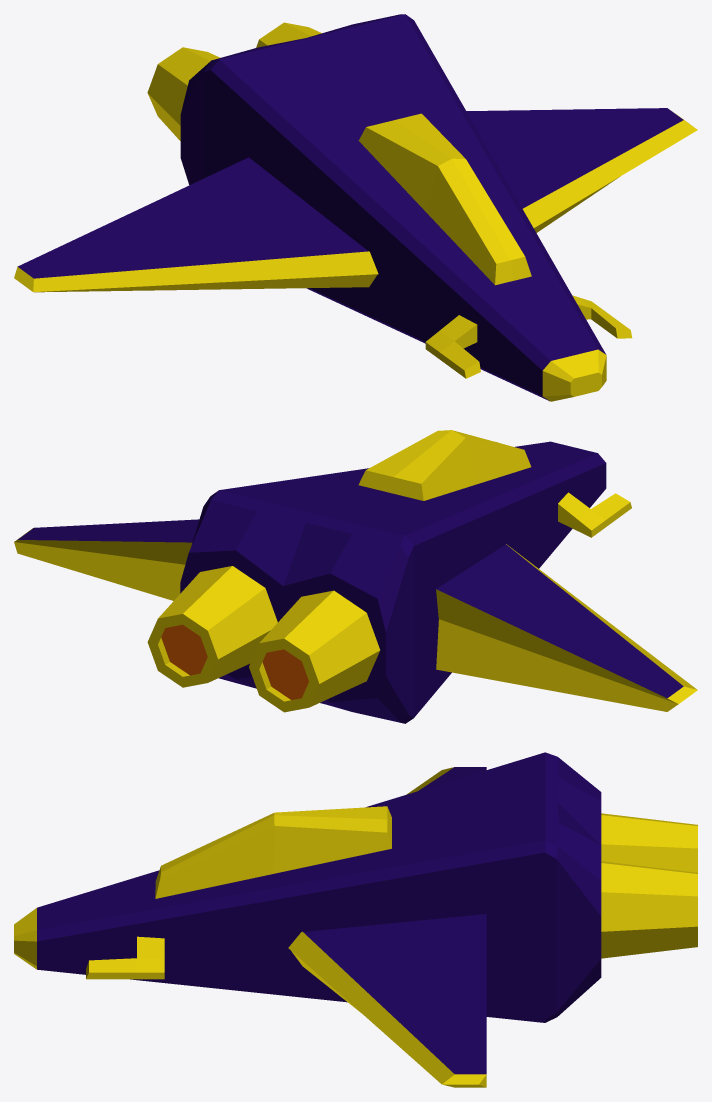
The model's file is nave.glb.
3 renders of one model, top to bottom at view 1: azimuth 30°, elevation 25°; view 2: azimuth 150°, elevation 25°; view 3: azimuth 270°, elevation 25°, orthographic. The views are drawn at different scales.
Visible parts, largest first — view 1: nave-inimiga-2; view 2: nave-inimiga-2; view 3: nave-inimiga-2.
Part boxes in pixels (<box>): nave-inimiga-2: <box>14,14,697,401</box>; nave-inimiga-2: <box>14,430,697,723</box>; nave-inimiga-2: <box>14,752,697,1087</box>.
Bounding box in the file's own units: 9.33 × 2.52 × 8.57.
